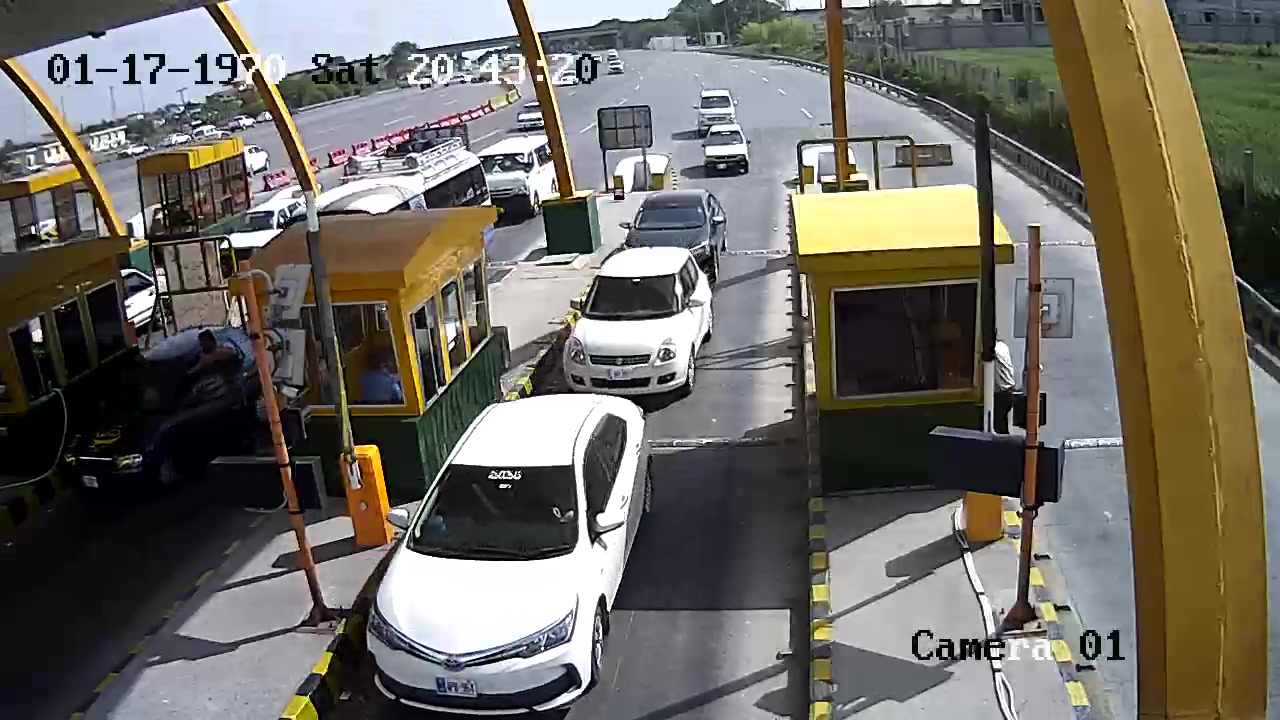F1: (361, 391, 653, 712), (552, 249, 723, 394)
